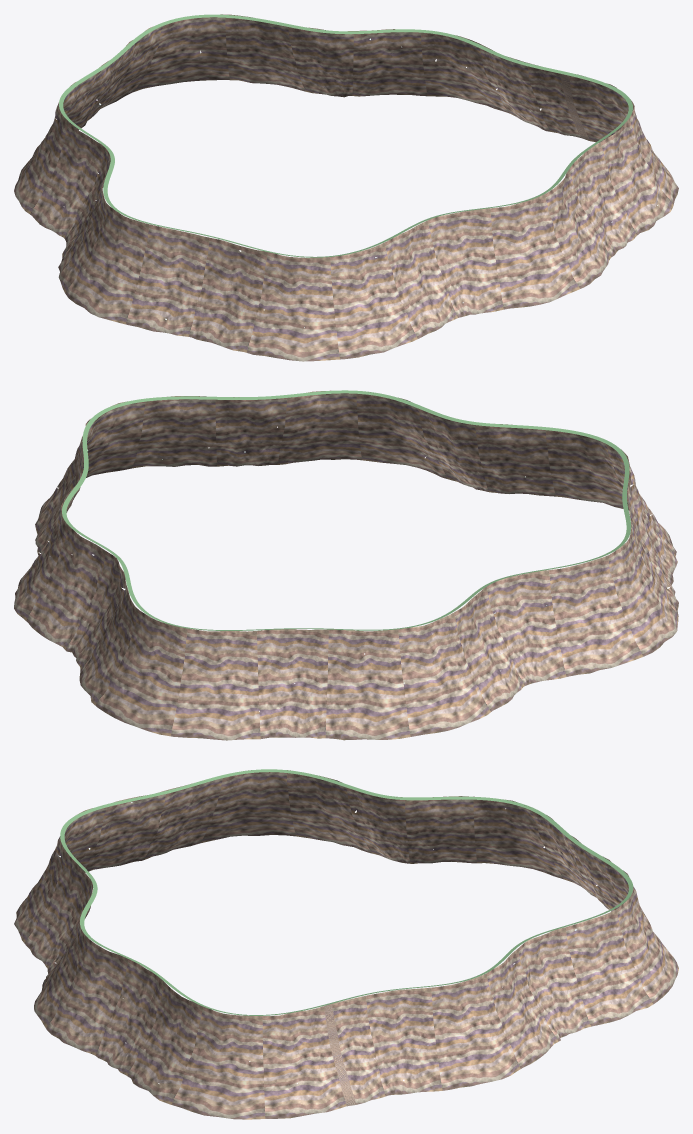
File: CliffWall_plateau_B32.glb
3 renders of one model, top to bottom at view 1: azimuth 30°, elevation 25°; view 2: azimuth 150°, elevation 25°; view 3: azimuth 270°, elevation 25°, orthographic. The views are drawn at different scales.
Parts seen in each view (by area): view 1: CliffWall_plateau_B32-rock0, CliffWall_plateau_B32-lip0; view 2: CliffWall_plateau_B32-rock0, CliffWall_plateau_B32-lip0; view 3: CliffWall_plateau_B32-rock0, CliffWall_plateau_B32-lip0.
Boxes of the visible parts, x1,y1,x2,y2 form: CliffWall_plateau_B32-rock0: (14, 14, 678, 361); CliffWall_plateau_B32-lip0: (59, 14, 632, 257); CliffWall_plateau_B32-rock0: (14, 390, 678, 740); CliffWall_plateau_B32-lip0: (62, 390, 631, 630); CliffWall_plateau_B32-rock0: (14, 770, 678, 1119); CliffWall_plateau_B32-lip0: (60, 769, 633, 1015).
Size of the model in its own units: 890 by 124 by 878.
4 materials, 1 textured.
